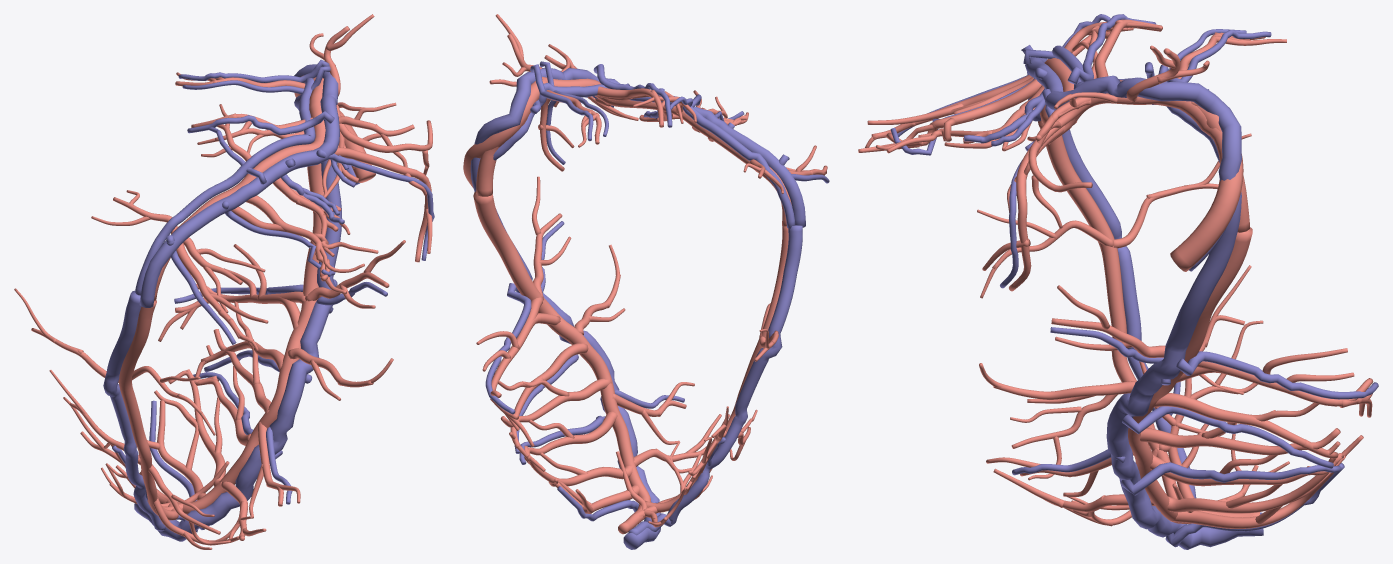
File: vessels_36.glb
The picture shows the model from 3 angles, left to right: view 1: azimuth 30°, elevation 25°; view 2: azimuth 150°, elevation 25°; view 3: azimuth 270°, elevation 25°; orthographic projection. The views are drawn at different scales.
Visible parts, largest first — view 1: Renderer Node; view 2: Renderer Node; view 3: Renderer Node.
Part boxes in pixels (left/top/right/bottom): Renderer Node: left=14, top=14, right=434, bottom=549; Renderer Node: left=463, top=14, right=829, bottom=549; Renderer Node: left=858, top=14, right=1378, bottom=549.
Size of the model in its own units: 85.74 by 115 by 88.89.
